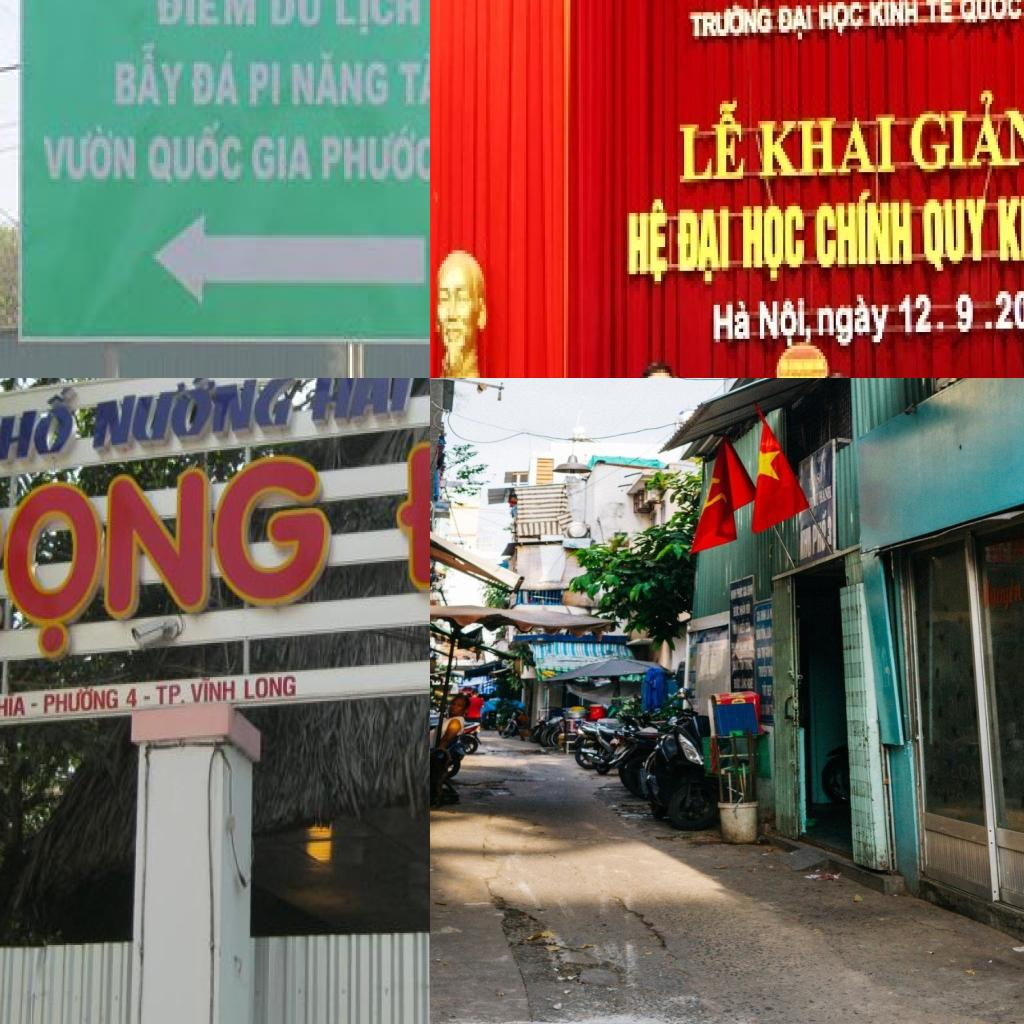text: (0, 446, 332, 682), (91, 378, 298, 450), (907, 83, 1024, 175), (756, 111, 899, 182), (815, 189, 916, 274), (320, 120, 430, 184), (674, 94, 747, 186), (148, 120, 244, 187), (0, 385, 77, 468), (40, 123, 138, 184), (288, 54, 390, 110), (743, 203, 809, 288), (922, 196, 990, 278), (112, 43, 186, 110), (676, 206, 732, 291), (312, 378, 416, 422), (814, 294, 892, 352), (623, 196, 669, 288), (688, 6, 775, 46), (188, 48, 242, 110), (334, 0, 422, 37), (252, 134, 314, 184), (758, 298, 815, 352), (156, 0, 258, 29), (41, 684, 121, 714), (998, 179, 1024, 264), (710, 298, 754, 346), (983, 284, 1024, 335), (400, 40, 430, 109), (957, 0, 1023, 29), (246, 59, 282, 110), (867, 0, 922, 32), (895, 294, 935, 338), (777, 2, 815, 46), (268, 0, 324, 29), (242, 672, 297, 701), (188, 674, 237, 706), (988, 576, 1024, 615), (954, 294, 975, 338), (154, 682, 188, 708), (924, 0, 955, 26), (0, 692, 27, 721), (124, 686, 140, 710), (933, 318, 947, 336), (827, 514, 833, 548)
